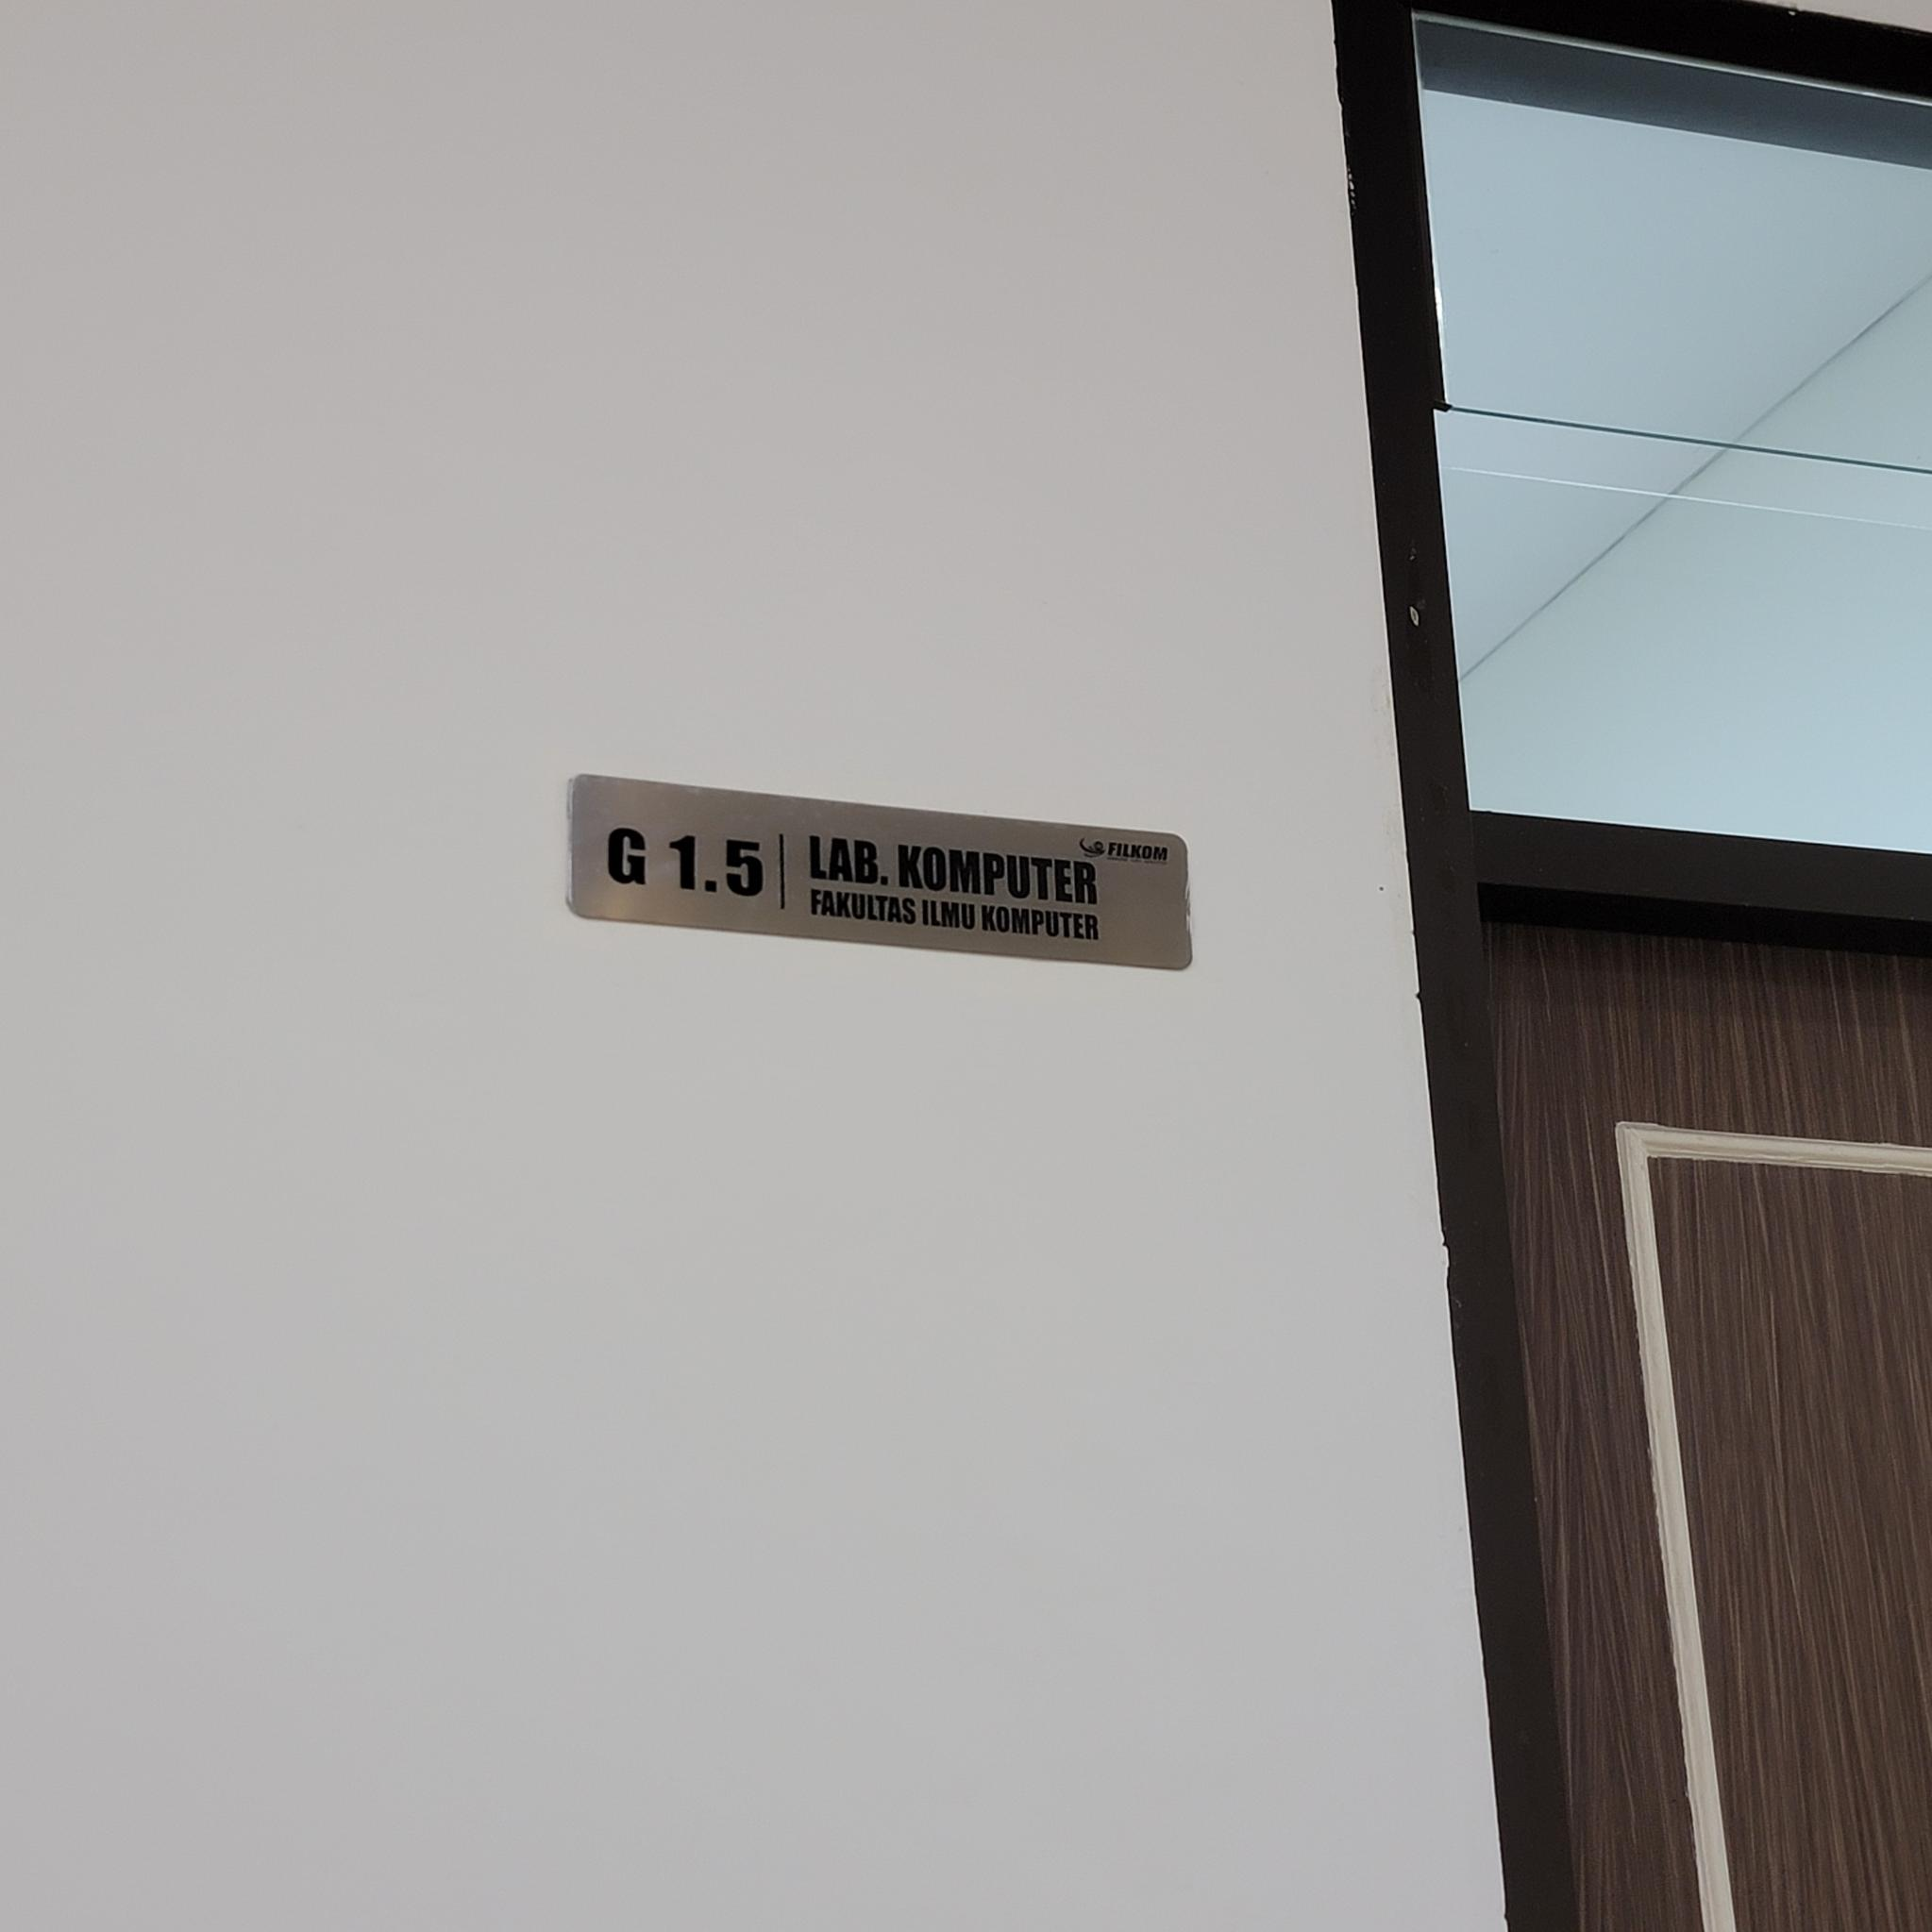plate: (568, 773, 1192, 977)
